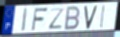B: (63, 5, 82, 31)
F: (31, 7, 49, 32)
I: (21, 8, 28, 33), (99, 5, 106, 30)
V: (83, 4, 99, 30)
Z: (48, 8, 66, 30)
